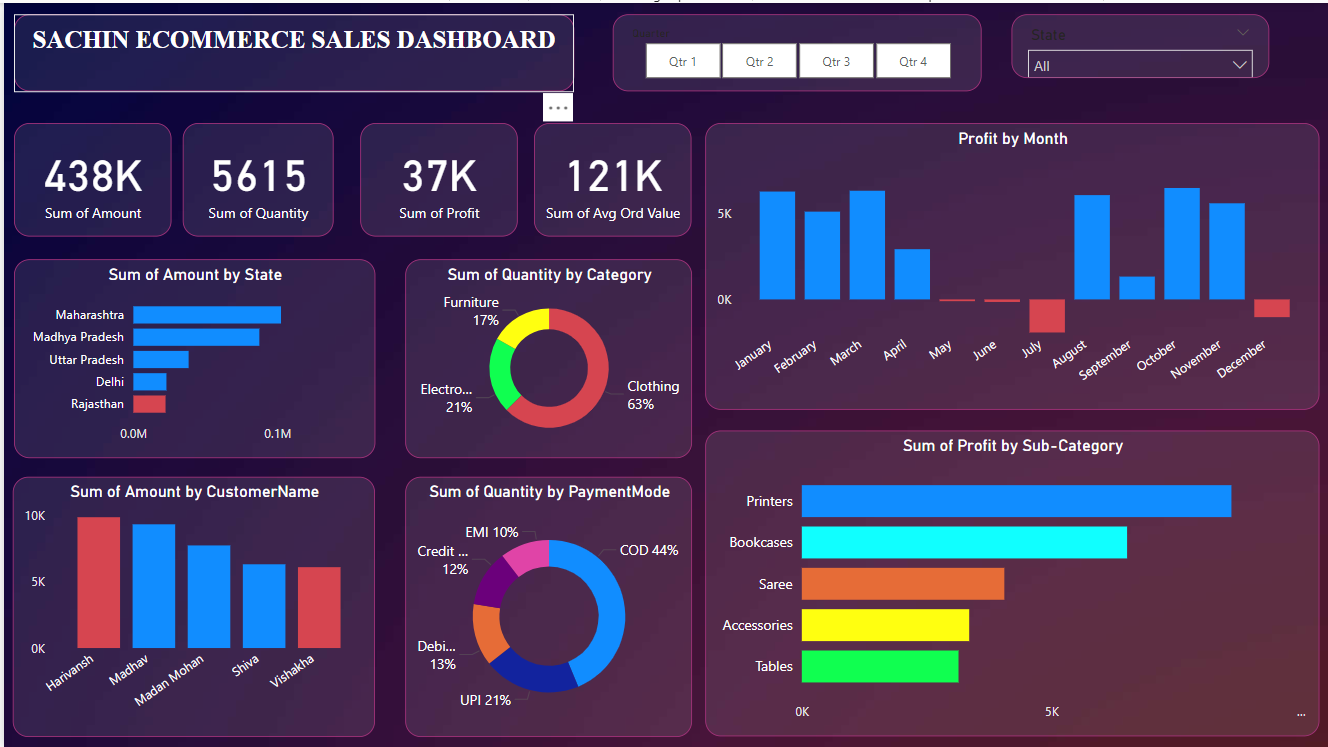

The page's visual inventory and layout, read from the dashboard file:
{"tool":"powerbi","page":{"name":"Page 1","canvas":[1280,720],"ordinal":0},"visuals":[{"type":"textbox","box":[9.6,11,540.7,74.1],"z":0},{"type":"columnChart","title":"Profit by Month","fields":{"Category":["Orders.Order Date.Variation.Date Hierarchy.Month"],"Y":["Details.Profit"]},"box":[676.5,115.3,592.8,277.2],"z":1},{"type":"barChart","fields":{"Category":["Details.Sub-Category"],"Y":["Details.Profit"]},"box":[676.5,413,592.8,295],"z":2},{"type":"donutChart","fields":{"Category":["Details.Category"],"Y":["Details.Quantity"]},"box":[387,247,277.2,192.1],"z":3},{"type":"donutChart","fields":{"Y":["Details.Quantity"],"Category":["Details.PaymentMode"]},"box":[387,456.9,277.2,251.1],"z":4},{"type":"card","fields":{"Values":["Details.Amount"]},"box":[9.6,115.3,152.3,109.8],"z":5},{"type":"card","fields":{"Values":["Details.Quantity"]},"box":[172.9,115.3,145.5,109.8],"z":6},{"type":"card","fields":{"Values":["Details.Profit"]},"box":[344.4,115.3,152.3,109.8],"z":7},{"type":"card","fields":{"Values":["Details.Avg Ord Value"]},"box":[511.8,115.3,152.3,109.8],"z":8},{"type":"barChart","fields":{"Category":["Orders.State"],"Y":["Details.Amount"]},"box":[9.6,247,348.5,192.1],"z":9},{"type":"columnChart","fields":{"Category":["Orders.CustomerName"],"Y":["Details.Amount"]},"box":[8.2,456.9,349.9,251.1],"z":10},{"type":"slicer","fields":{"Values":["Orders.Order Date.Variation.Date Hierarchy.Quarter"]},"box":[587.5,10.9,355.9,74.8],"z":11},{"type":"slicer","fields":{"Values":["Orders.State"]},"box":[972.4,10.9,248.5,61.5],"z":12}]}

Visuals, with their boxes in screenshot pixels (x1, y1, x2, y2), scaled from the page's 1280x720 canvas onto the 1328x747 screenshot:
textbox: {"left": 10, "top": 11, "right": 571, "bottom": 88}
"Profit by Month" columnChart: {"left": 702, "top": 120, "right": 1317, "bottom": 407}
barChart - Details.Sub-Category x Details.Profit: {"left": 702, "top": 428, "right": 1317, "bottom": 735}
donutChart - Details.Category x Details.Quantity: {"left": 402, "top": 256, "right": 689, "bottom": 456}
donutChart - Details.Quantity x Details.PaymentMode: {"left": 402, "top": 474, "right": 689, "bottom": 735}
card - Details.Amount: {"left": 10, "top": 120, "right": 168, "bottom": 234}
card - Details.Quantity: {"left": 179, "top": 120, "right": 330, "bottom": 234}
card - Details.Profit: {"left": 357, "top": 120, "right": 515, "bottom": 234}
card - Details.Avg Ord Value: {"left": 531, "top": 120, "right": 689, "bottom": 234}
barChart - Orders.State x Details.Amount: {"left": 10, "top": 256, "right": 372, "bottom": 456}
columnChart - Orders.CustomerName x Details.Amount: {"left": 9, "top": 474, "right": 372, "bottom": 735}
slicer - Orders.Order Date.Variation.Date Hierarchy.Quarter: {"left": 610, "top": 11, "right": 979, "bottom": 89}
slicer - Orders.State: {"left": 1009, "top": 11, "right": 1267, "bottom": 75}
